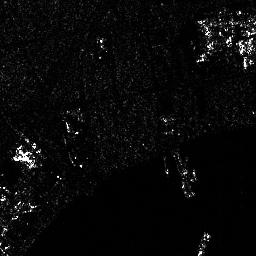ship: (195, 233, 211, 256)
